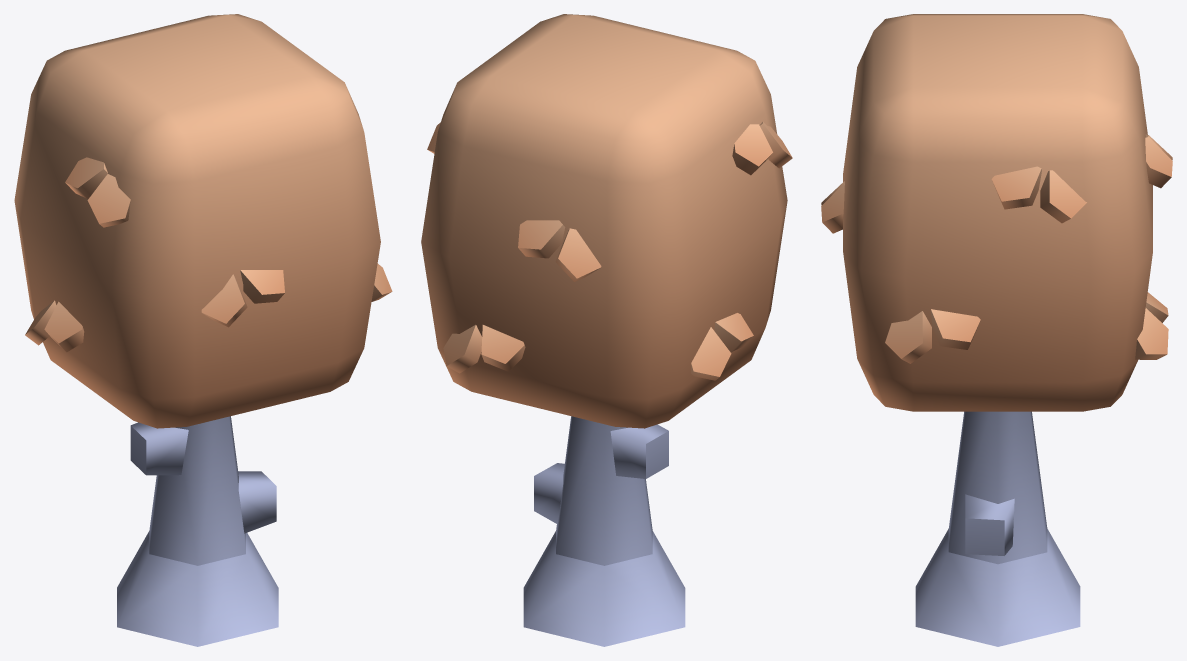
Rendered from tree.glb.
The picture shows the model from 3 angles, left to right: view 1: azimuth 30°, elevation 25°; view 2: azimuth 150°, elevation 25°; view 3: azimuth 270°, elevation 25°; orthographic projection.
Parts seen in each view (by area): view 1: tree; view 2: tree; view 3: tree.
Boxes of the visible parts, <box> form: tree: <box>14,14,392,646</box>; tree: <box>421,14,792,646</box>; tree: <box>821,14,1172,646</box>.
Size of the model in its own units: 1.09 by 1.93 by 1.11.
